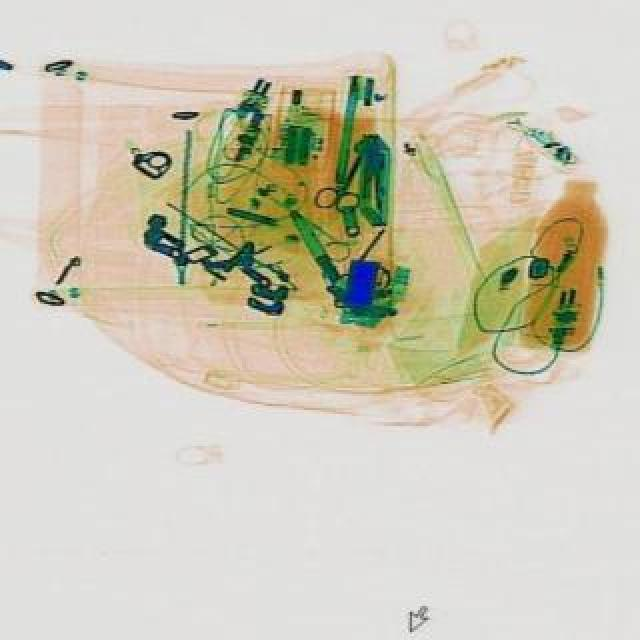pliers: (308, 144, 382, 224)
